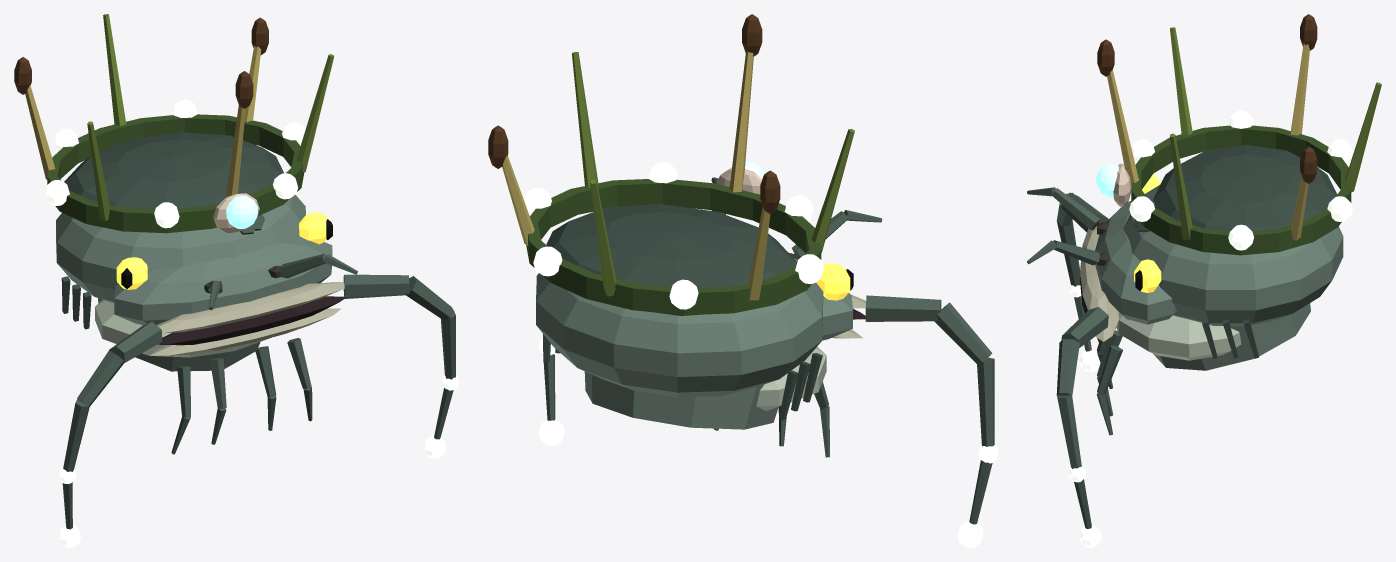
Rendered from river_king_head.glb.
3 views of the same model, side by side, from view 1: azimuth 30°, elevation 25°; view 2: azimuth 150°, elevation 25°; view 3: azimuth 270°, elevation 25° (orthographic). The views are drawn at different scales.
Parts seen in each view (by area): view 1: river_king_head; view 2: river_king_head; view 3: river_king_head.
Part boxes in pixels (x1,y1,x2,y2): river_king_head: (14,14,459,547); river_king_head: (488,14,998,547); river_king_head: (1027,14,1381,547).
Size of the model in its own units: 1.75 by 1.78 by 1.37.
